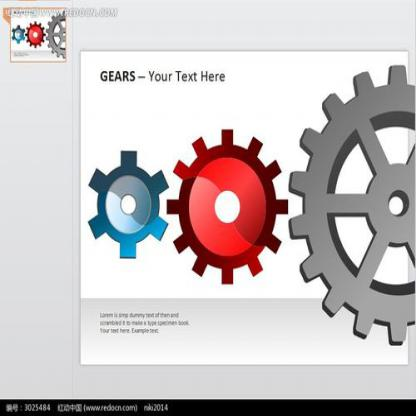FOD: (287, 60, 415, 348), (78, 146, 171, 262)
